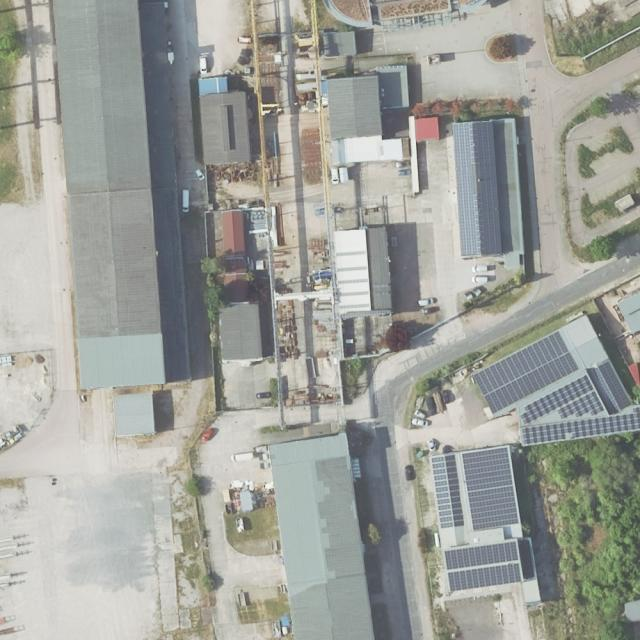PV: (472, 331, 580, 414), (453, 121, 502, 256), (462, 447, 519, 530), (523, 406, 640, 443), (520, 374, 604, 423), (586, 361, 632, 415), (448, 563, 522, 590), (445, 541, 519, 568), (431, 456, 453, 529), (445, 454, 465, 527)
